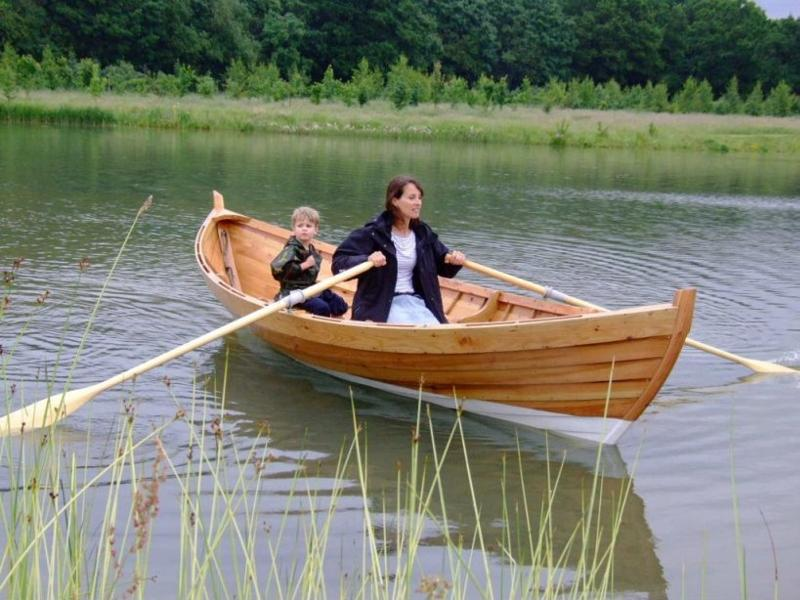person: (333, 177, 467, 324)
